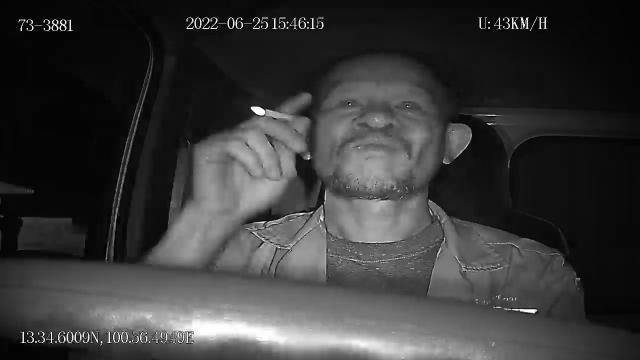Cigarette: (248, 103, 298, 121)
